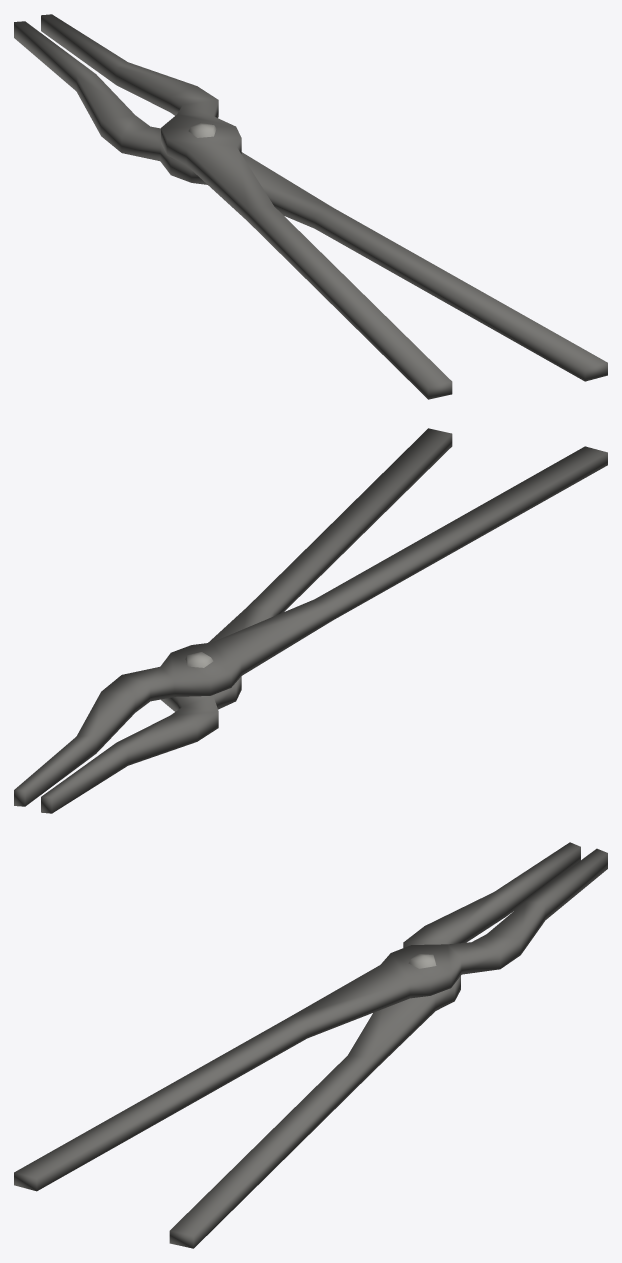
File: rpgpp_ag_pliers_02.fbx
3 renders of one model, top to bottom at view 1: azimuth 30°, elevation 25°; view 2: azimuth 150°, elevation 25°; view 3: azimuth 330°, elevation 25°, orthographic.
Parts seen in each view (by area): view 1: rpgpp_ag_pliers_02; view 2: rpgpp_ag_pliers_02; view 3: rpgpp_ag_pliers_02.
Part boxes in pixels (x1,y1,x2,y2): rpgpp_ag_pliers_02: (14,14,607,399); rpgpp_ag_pliers_02: (14,428,607,813); rpgpp_ag_pliers_02: (14,842,607,1248).
Bounding box in the file's own units: 0.092 × 0.022 × 0.4306.
